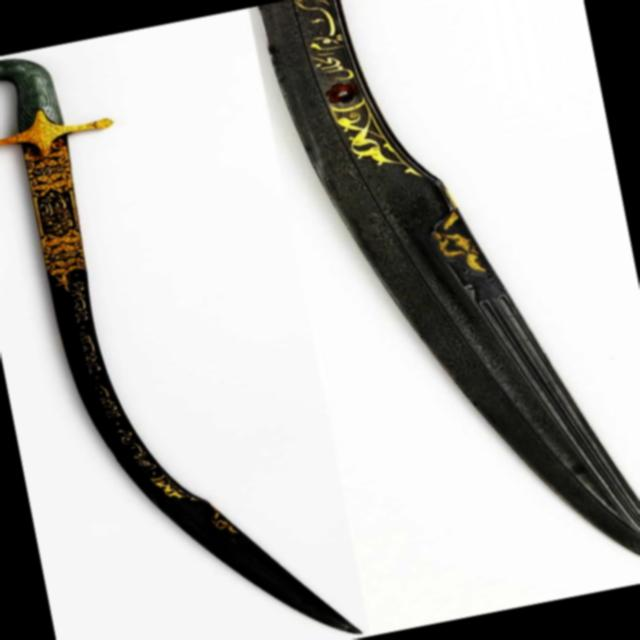long sword: (240, 0, 640, 638), (0, 7, 379, 640)
